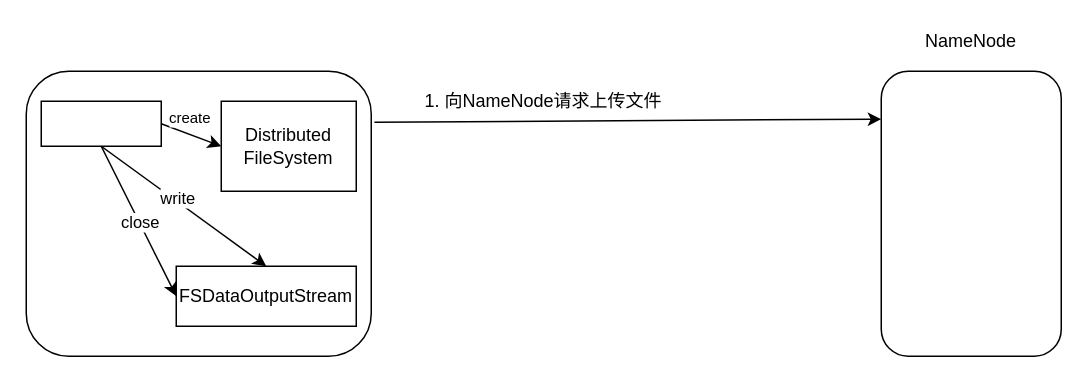
The diagram is 1088 pixels wide and 383 high, and some of its shapes have lost their labels. Here are the shapes that lost their labels. From the top down, the centre of each, then its label:
At point (100, 123): "HDFS Client".
At point (970, 213): "元数据".
